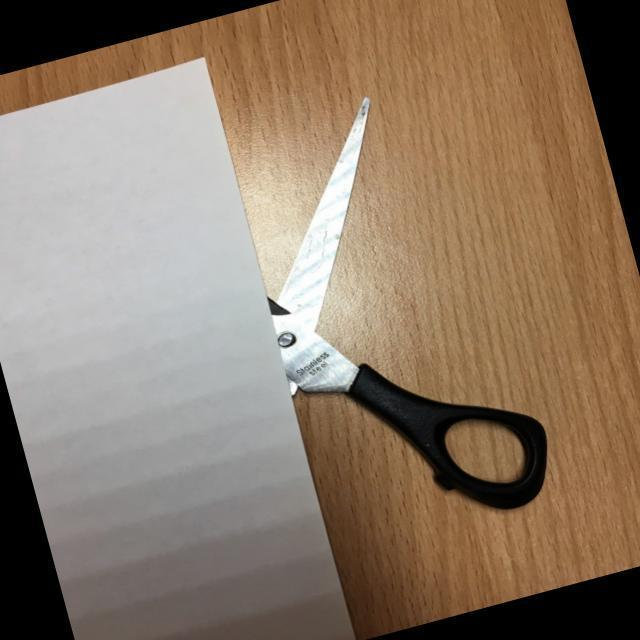scissors: (226, 74, 564, 558)
